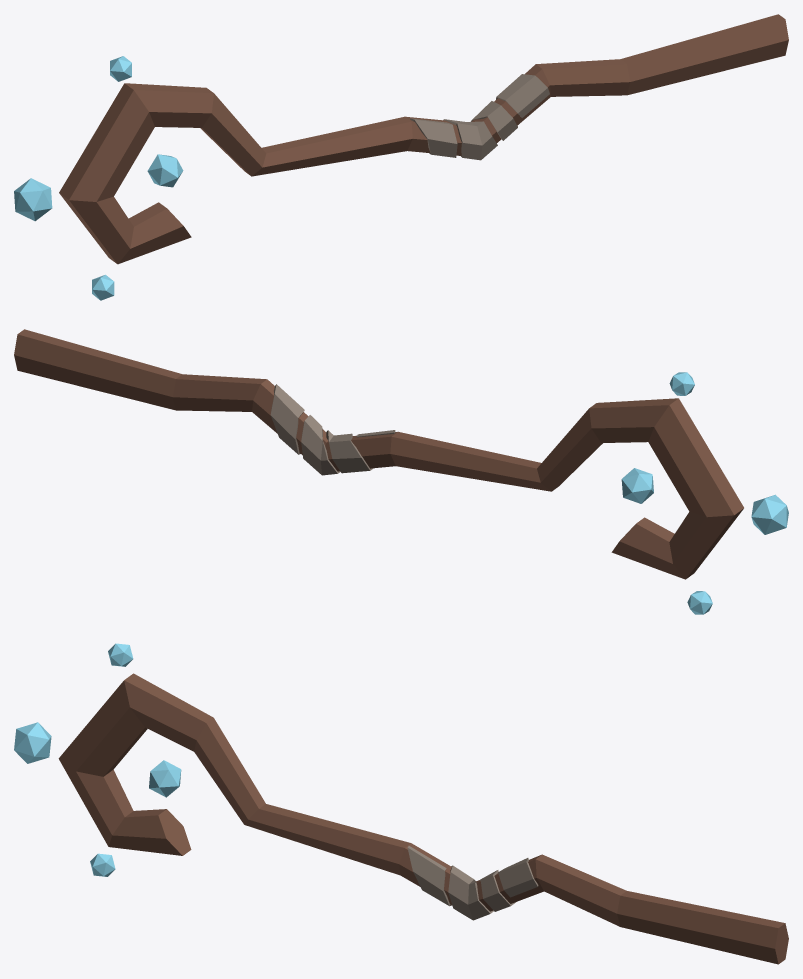
The model's file is lowpoly_staff.glb.
The picture shows the model from 3 angles, top to bottom: view 1: azimuth 30°, elevation 25°; view 2: azimuth 150°, elevation 25°; view 3: azimuth 330°, elevation 25°; orthographic projection.
Visible parts, largest first — view 1: Staff; view 2: Staff; view 3: Staff.
Boxes of the visible parts, bbox=[...] form: Staff: bbox=[14, 14, 788, 300]; Staff: bbox=[14, 329, 788, 614]; Staff: bbox=[14, 643, 788, 964].
Size of the model in its own units: 1.07 by 0.3177 by 0.0488.
Materials: 1 (1 with a texture image).
